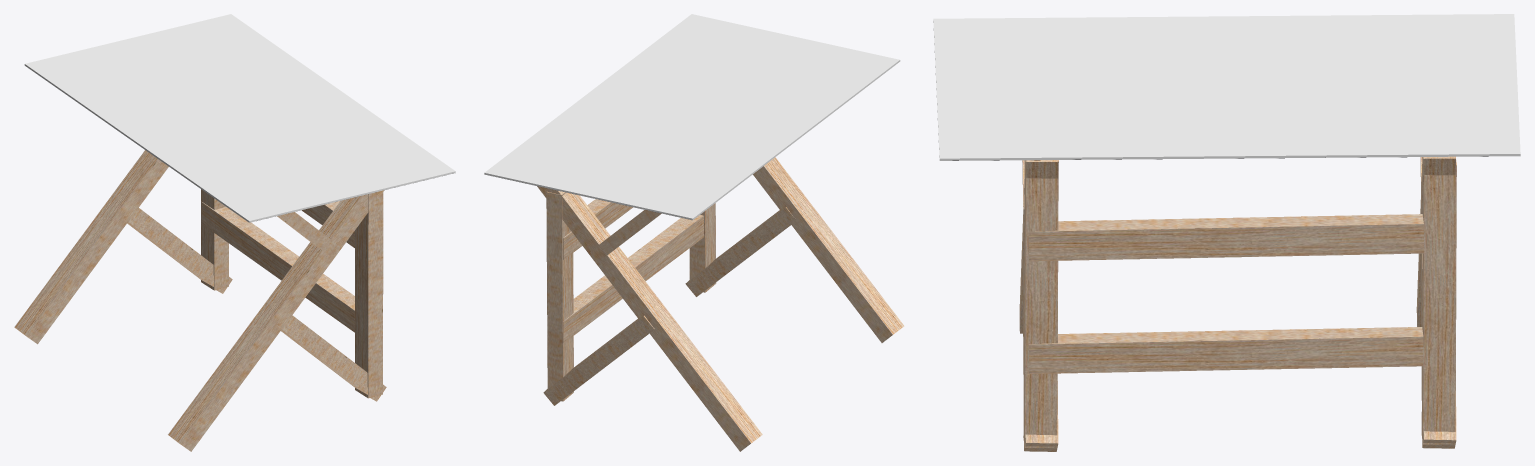
The model's file is restirador.obj.
The picture shows the model from 3 angles, left to right: view 1: azimuth 30°, elevation 25°; view 2: azimuth 150°, elevation 25°; view 3: azimuth 270°, elevation 25°; orthographic projection. The views are drawn at different scales.
Visible parts, largest first — view 1: pCylinder3; view 2: pCylinder3; view 3: pCylinder3.
Part boxes in pixels (x1,y1,x2,y2): pCylinder3: (14,14,455,451); pCylinder3: (484,14,904,451); pCylinder3: (933,14,1520,451).
Size of the model in its own units: 5.84 by 5.52 by 8.86.
Materials: 2 (2 with a texture image).
